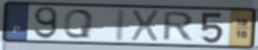5: (200, 10, 226, 44)
9: (31, 6, 59, 40)
I: (113, 8, 128, 42)
Q: (62, 8, 95, 39)
R: (160, 11, 197, 42)
X: (129, 8, 162, 44)
